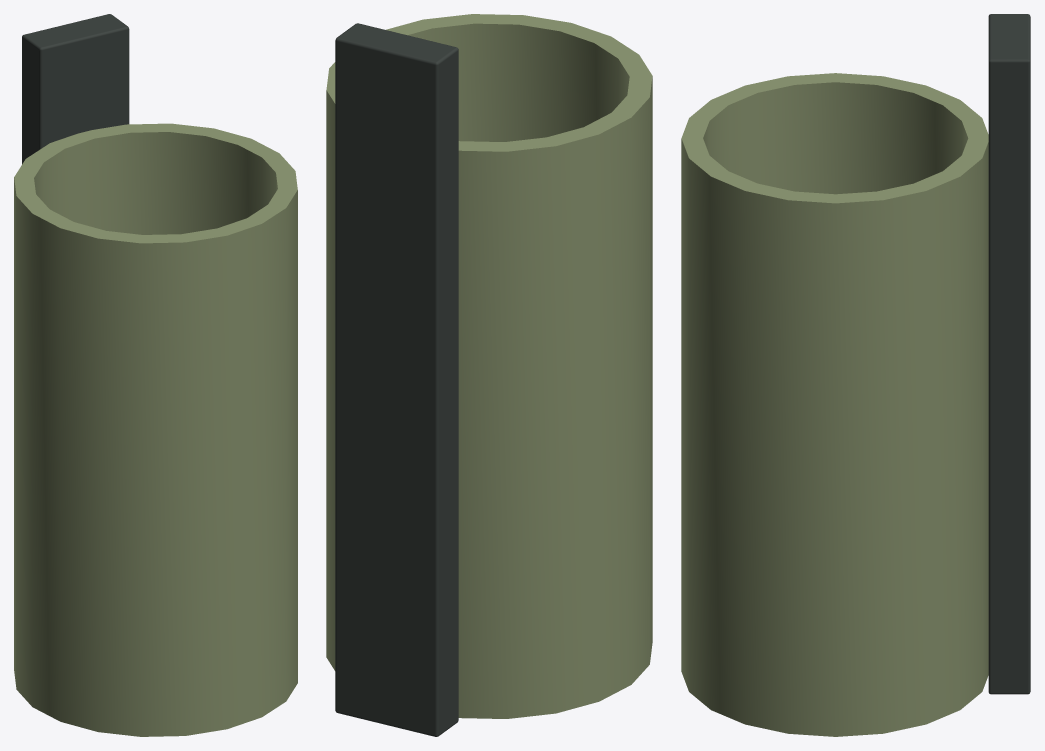
File: backpacks-and-expedition-storage-water-bottle-pouch-4dd2964e__21083.glb
3 renders of one model, left to right at view 1: azimuth 30°, elevation 25°; view 2: azimuth 150°, elevation 25°; view 3: azimuth 270°, elevation 25°, orthographic. The views are drawn at different scales.
Parts seen in each view (by area): view 1: water-bottle-pouch; view 2: water-bottle-pouch; view 3: water-bottle-pouch.
Boxes of the visible parts, bbox=[...] form: water-bottle-pouch: bbox=[14, 14, 297, 736]; water-bottle-pouch: bbox=[326, 14, 652, 736]; water-bottle-pouch: bbox=[681, 14, 1030, 736].
Size of the model in its own units: 0.11 by 0.25 by 0.1245.
